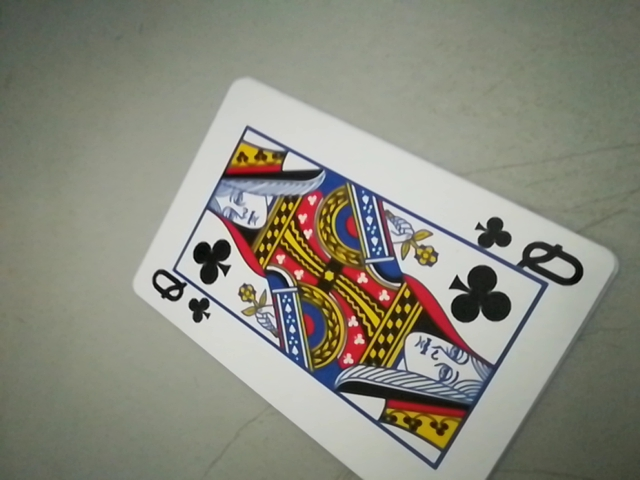mh q: (462, 212, 591, 280), (144, 269, 218, 321)
